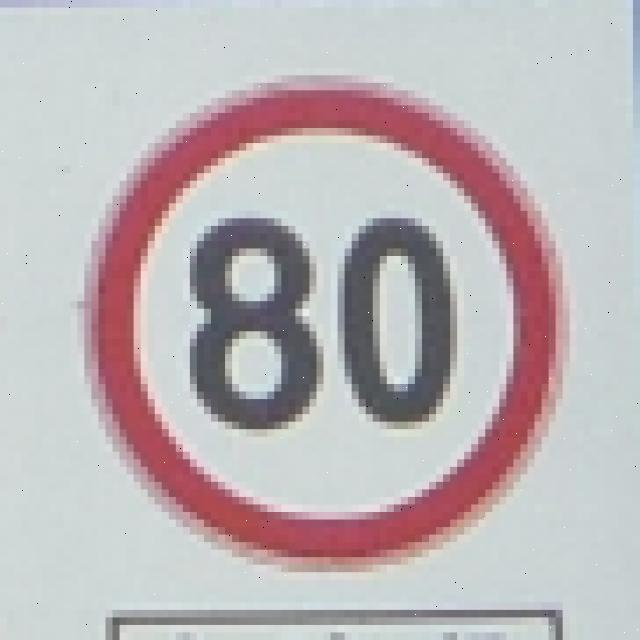speed limit 80: (79, 75, 571, 573)
